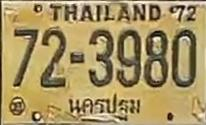0: (172, 29, 196, 87)
2: (40, 27, 66, 87)
3: (88, 28, 114, 86)
7: (12, 28, 38, 86)
8: (144, 29, 168, 87)
9: (116, 28, 141, 87)
NPT: (66, 91, 143, 123)
